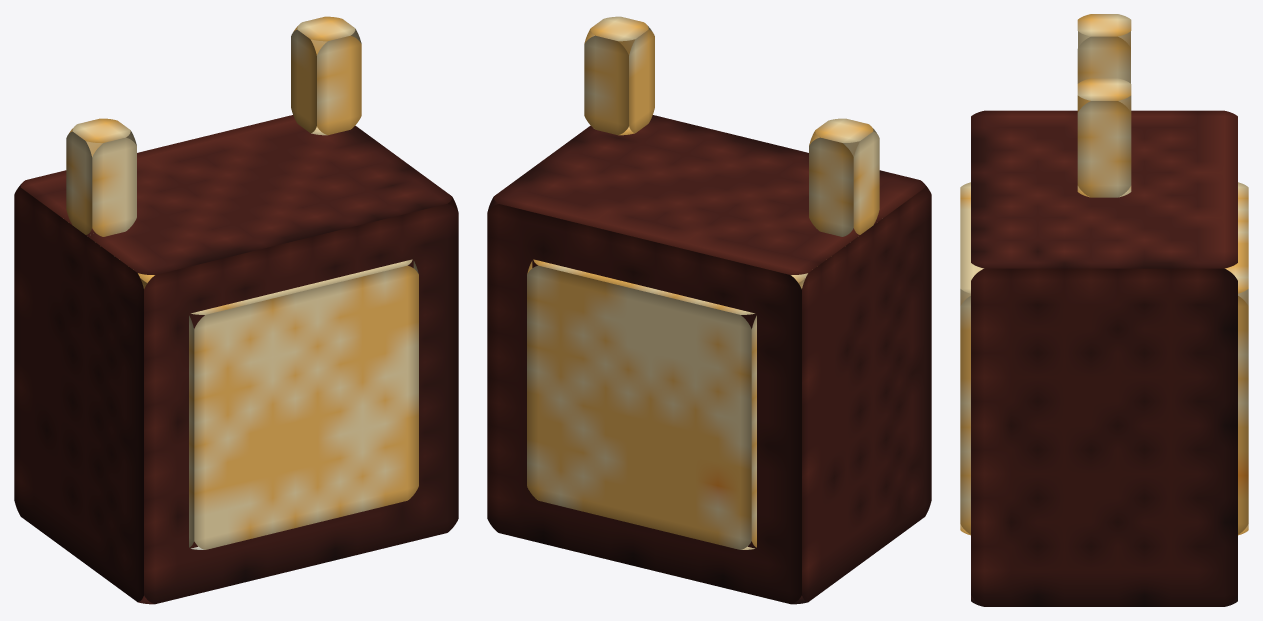
The model's file is ignavars_heart_ember.obj.
3 renders of one model, left to right at view 1: azimuth 30°, elevation 25°; view 2: azimuth 150°, elevation 25°; view 3: azimuth 270°, elevation 25°, orthographic. The views are drawn at different scales.
Visible parts, largest first — view 1: lit, fire; view 2: lit, fire; view 3: lit, fire.
Part boxes in pixels (x1,y1,x2,y2): lit: [14, 115, 458, 604]; fire: [66, 16, 418, 549]; lit: [487, 115, 931, 604]; fire: [527, 16, 879, 549]; lit: [971, 110, 1237, 606]; fire: [960, 14, 1248, 535].
Bounding box in the file's own units: 0.4375 × 0.625 × 0.3375.
